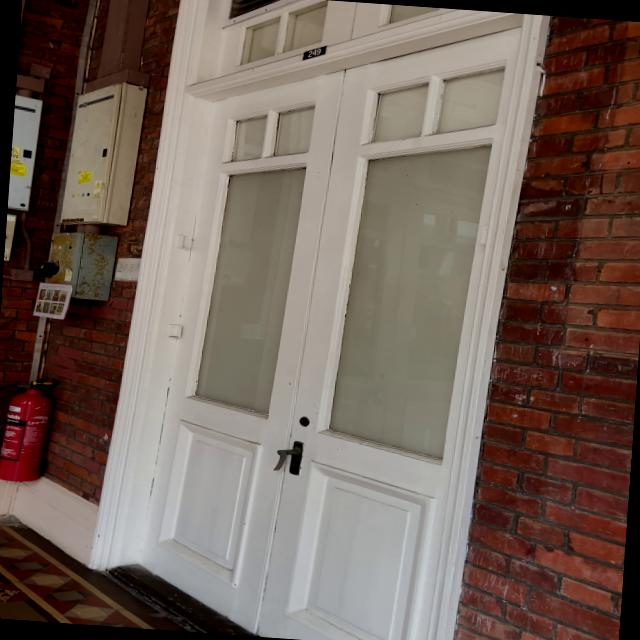room249: (294, 42, 330, 64)
